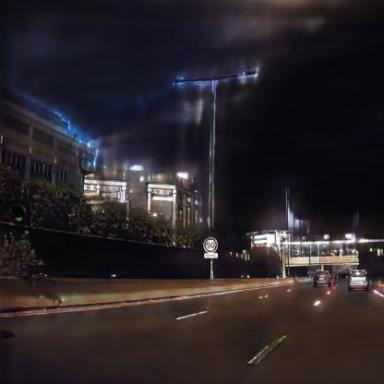Speed_limit_90: (204, 237, 217, 253)
